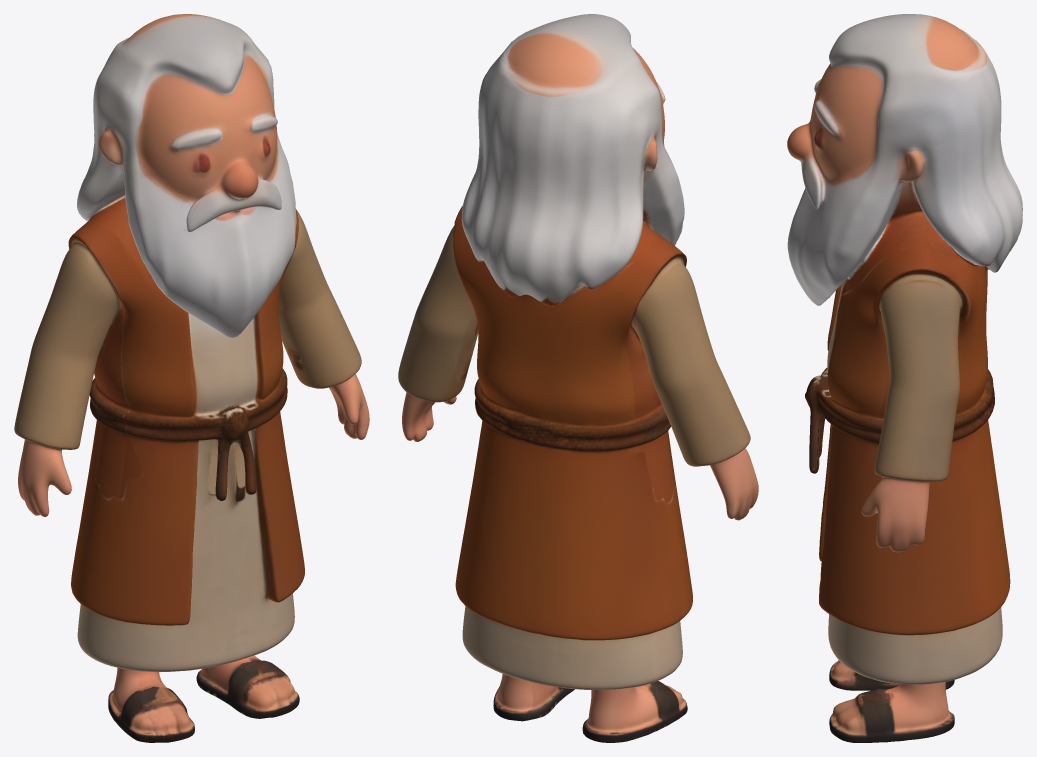
File: noe_rodin_original.glb
3 renders of one model, left to right at view 1: azimuth 30°, elevation 25°; view 2: azimuth 150°, elevation 25°; view 3: azimuth 270°, elevation 25°, orthographic.
Parts seen in each view (by area): view 1: model; view 2: model; view 3: model.
Boxes of the visible parts, x1=… form: model: x1=14, y1=14, x2=369, y2=742; model: x1=398, y1=14, x2=758, y2=742; model: x1=787, y1=14, x2=1022, y2=742.
Size of the model in its own units: 0.9906 by 1.9 by 0.5964.
Materials: 1 (1 with a texture image).
